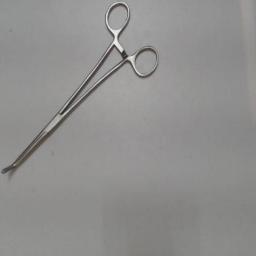Lahey Forceps: (1, 0, 163, 184)
